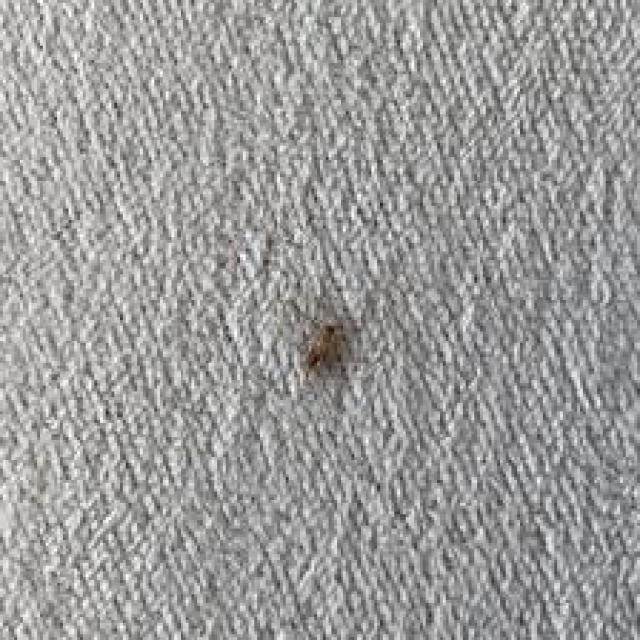Culex: (303, 321, 348, 376)
